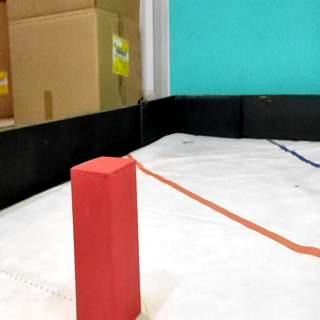redbox: (70, 155, 142, 320)
